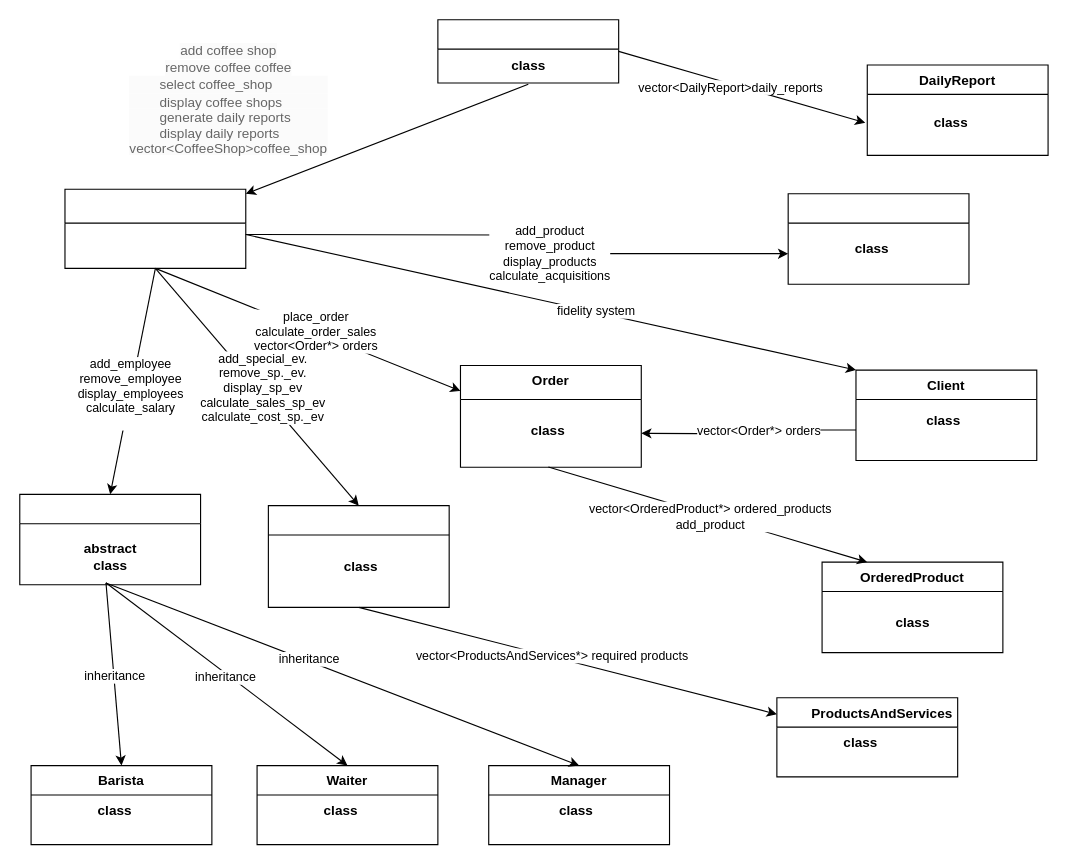
This 1068x868 diagram has some shape labels left out. The box of each missing label's shape, as (x1, y1, x2, y2) in pixels:
CoffeeShop: (64, 188, 246, 268)
CoffeeShopManager: (437, 19, 619, 83)
Employee: (19, 493, 201, 585)
Product: (787, 193, 969, 284)
SpecialEvent: (267, 505, 449, 607)
